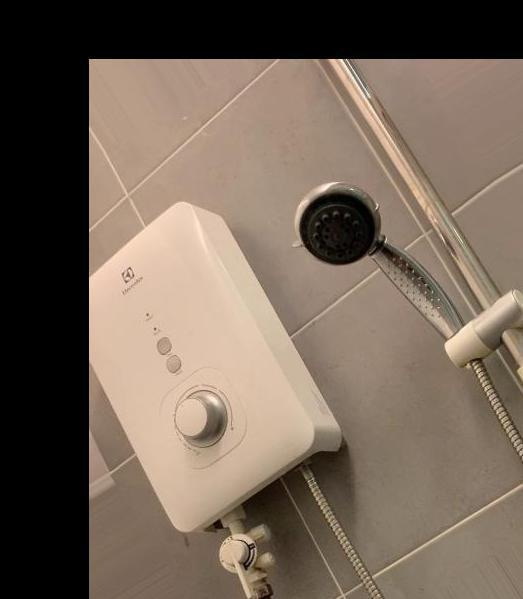Ducha: (89, 59, 523, 599)
